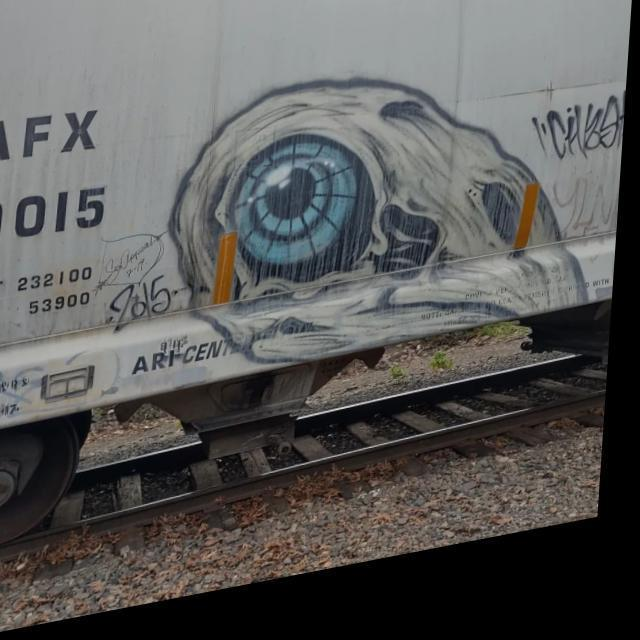-: (158, 9, 616, 405), (0, 94, 128, 257), (531, 109, 629, 194), (0, 263, 101, 329), (97, 281, 183, 349), (94, 233, 172, 300)
